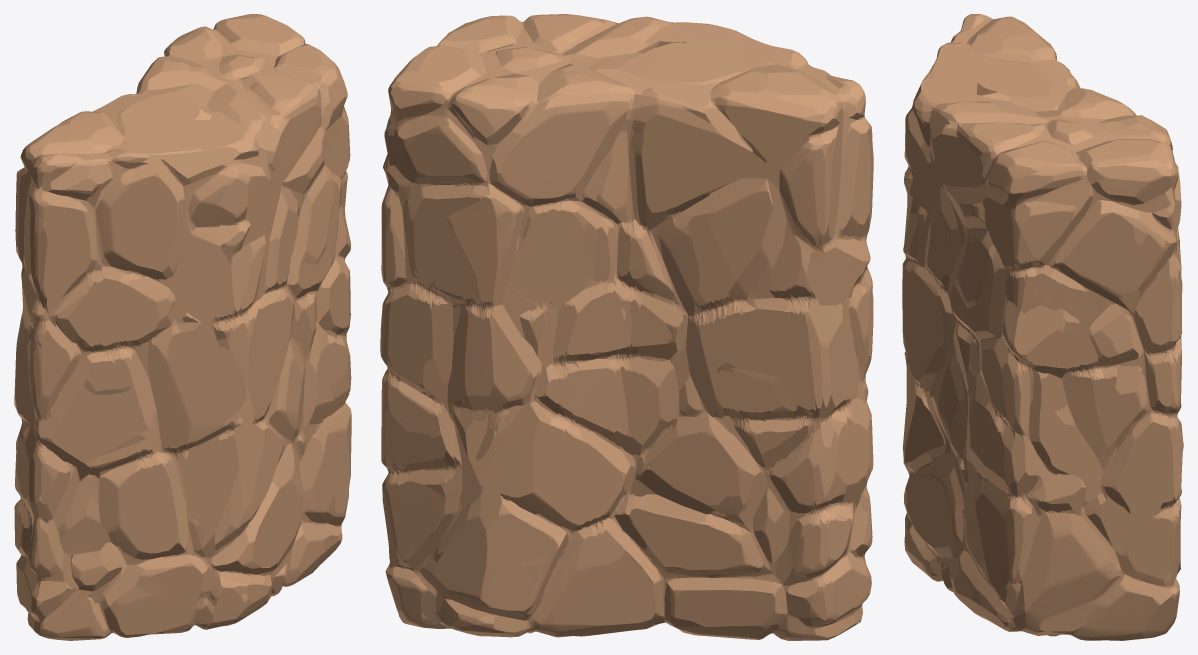
3 renders of one model, left to right at view 1: azimuth 30°, elevation 25°; view 2: azimuth 150°, elevation 25°; view 3: azimuth 270°, elevation 25°, orthographic. The views are drawn at different scales.
Parts seen in each view (by area): view 1: Mesh_73_LOD0; view 2: Mesh_73_LOD0; view 3: Mesh_73_LOD0.
Boxes of the visible parts, <box> form: Mesh_73_LOD0: <box>14,14,351,640</box>; Mesh_73_LOD0: <box>380,14,873,640</box>; Mesh_73_LOD0: <box>902,14,1183,640</box>.
Size of what is drawn, in the model's own units: 3781 by 5171 by 2729.
